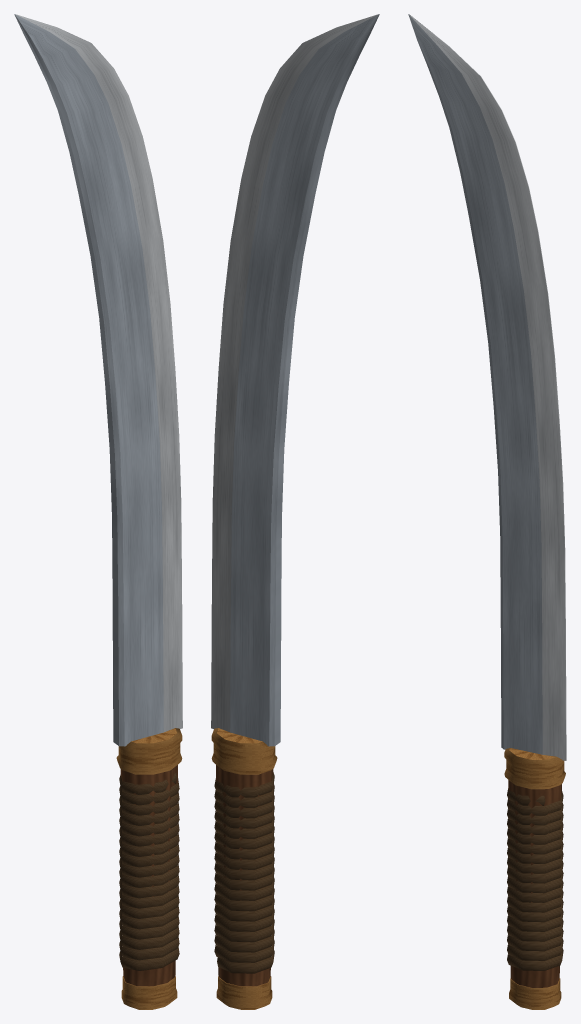
The model's file is thai-sword-03.glb.
3 views of the same model, side by side, from view 1: azimuth 30°, elevation 25°; view 2: azimuth 150°, elevation 25°; view 3: azimuth 330°, elevation 25° (orthographic). The views are drawn at different scales.
Parts seen in each view (by area): view 1: Blade, Handle Wrap, Metal Fittings, Handle; view 2: Blade, Handle Wrap, Metal Fittings, Handle; view 3: Blade, Handle Wrap, Metal Fittings, Handle.
Part boxes in pixels (x1=…): Blade: x1=14, y1=14, x2=182, y2=746; Handle Wrap: x1=119, y1=773, x2=179, y2=970; Metal Fittings: x1=116, y1=728, x2=182, y2=1009; Handle: x1=120, y1=765, x2=177, y2=986; Blade: x1=211, y1=14, x2=379, y2=746; Handle Wrap: x1=214, y1=772, x2=274, y2=973; Metal Fittings: x1=211, y1=728, x2=277, y2=1009; Handle: x1=216, y1=765, x2=273, y2=986; Blade: x1=408, y1=14, x2=566, y2=760; Handle Wrap: x1=507, y1=788, x2=563, y2=970; Metal Fittings: x1=504, y1=748, x2=565, y2=1009; Handle: x1=508, y1=780, x2=561, y2=987.
Size of the model in its own units: 0.218 by 1.26 by 0.0627.
5 materials, 5 textured.
